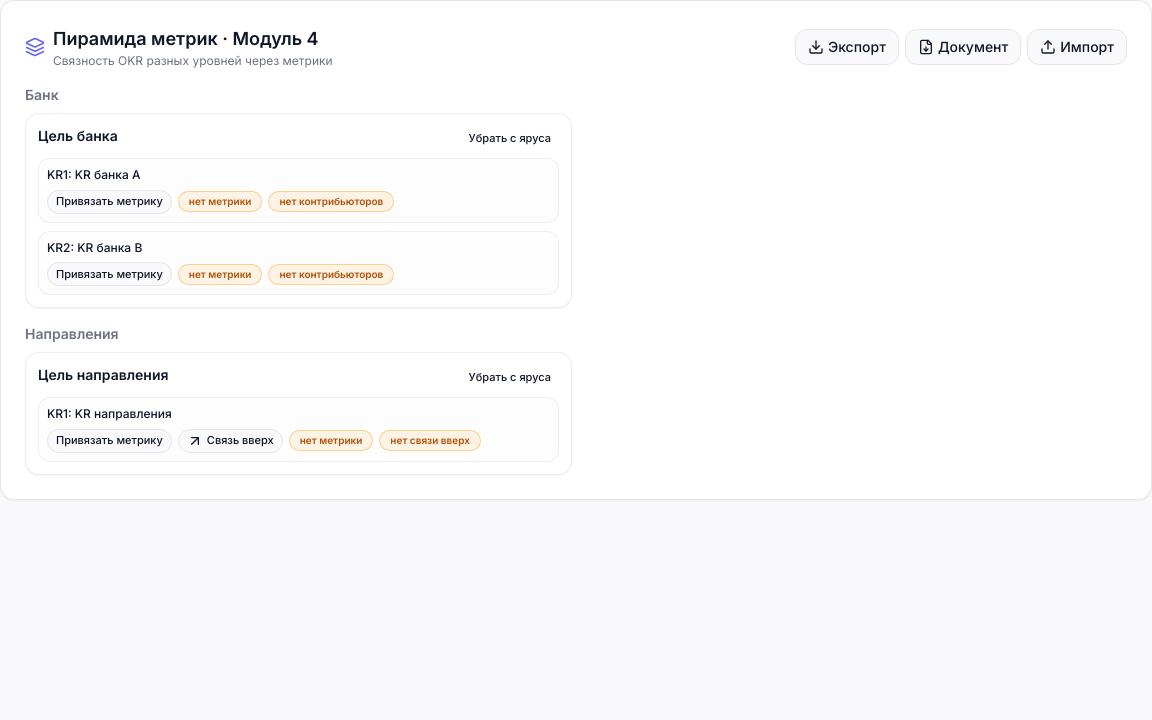
Test: MetricsPyramid › создаёт связь вверх между KR направления и KR банка (many-to-many)
What coordinates should you click on to do the following:
click the button "Связь вверх"
I would click on:
 (230, 440)
Its box is [178,428,283,452].
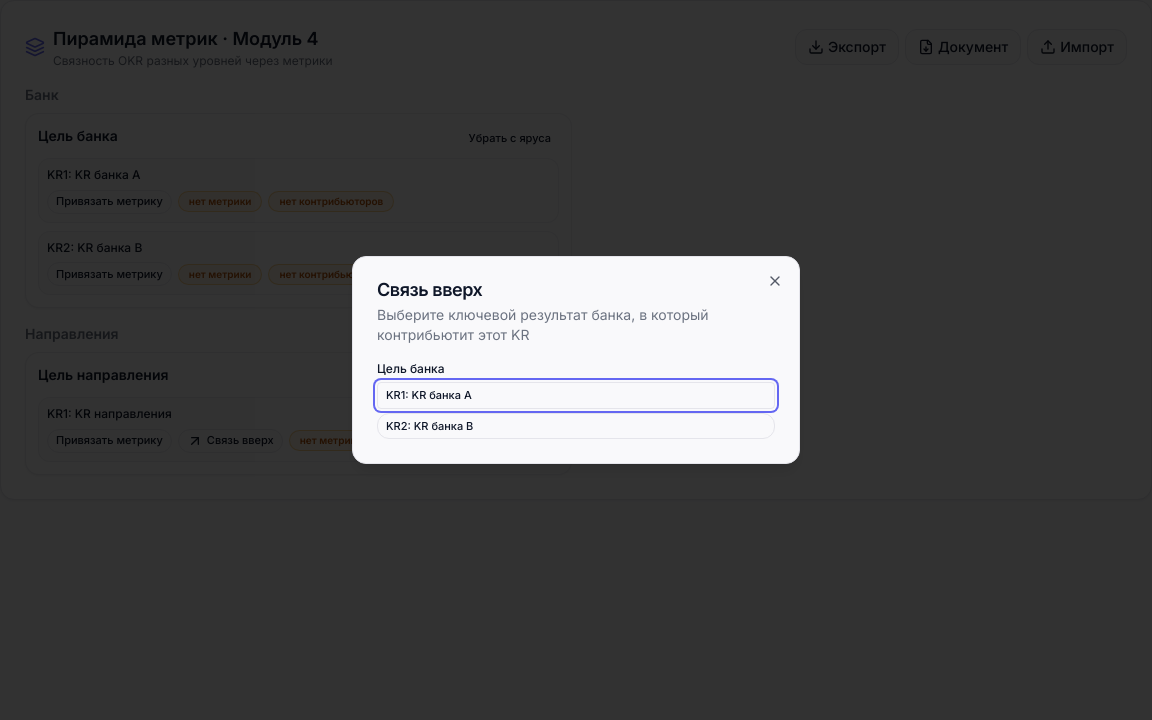
What coordinates should you click on to do the following:
click the button "KR1: KR банка A"
I would click on:
 (442, 395)
Its box is [377,382,775,408].
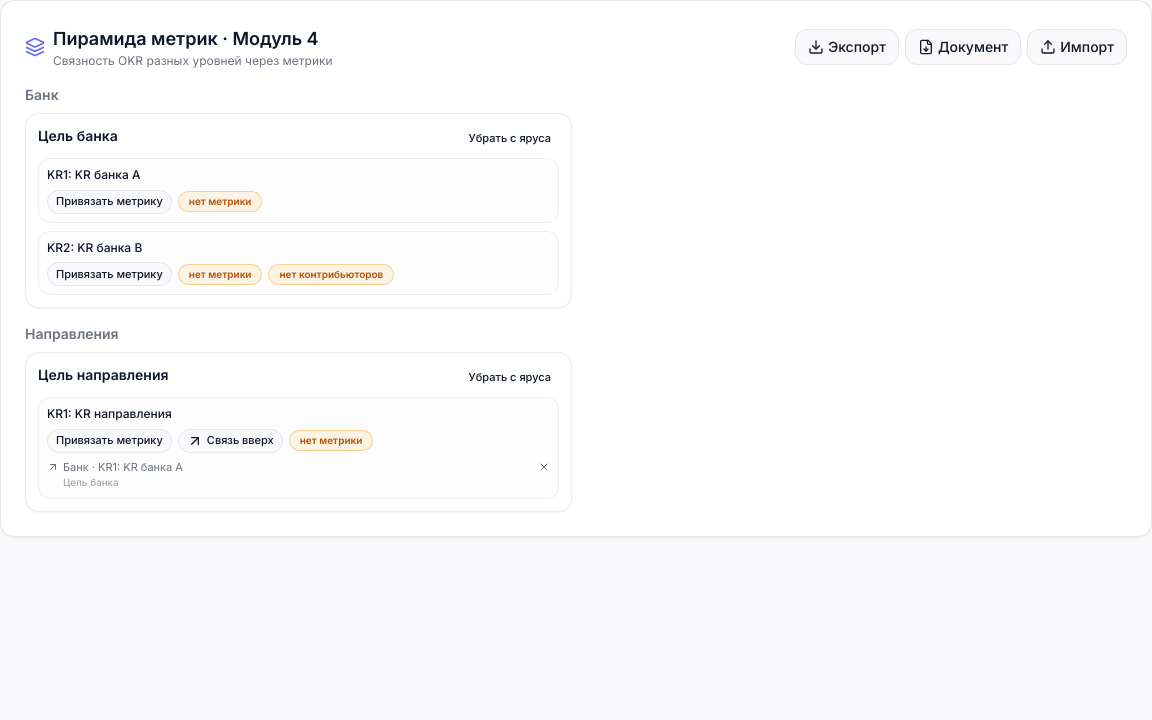
Expected: the number of list items with test id "contribution-link" is 1, [47,458,550,490]
What coordinates should you click on to do the following:
click the button "Связь вверх"
I would click on:
 (230, 440)
Its box is [178,428,283,452].
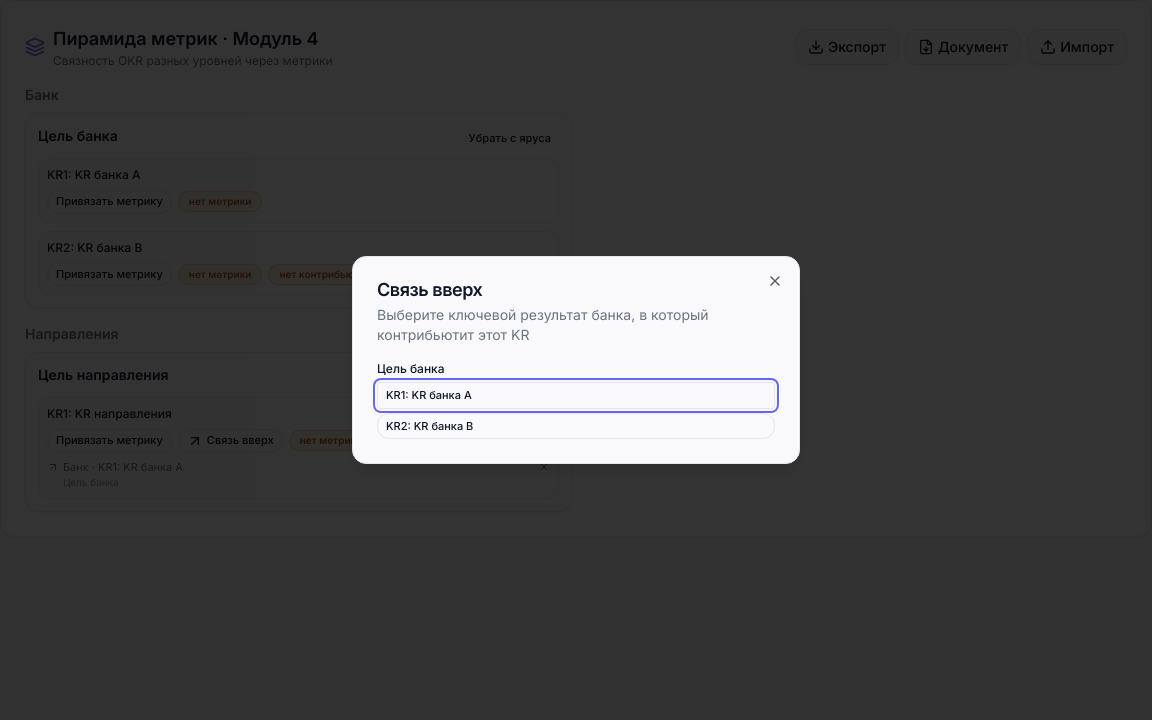
What coordinates should you click on to do the following:
click the button "KR2: KR банка B"
I would click on:
 (444, 426)
Its box is [377,412,775,439].
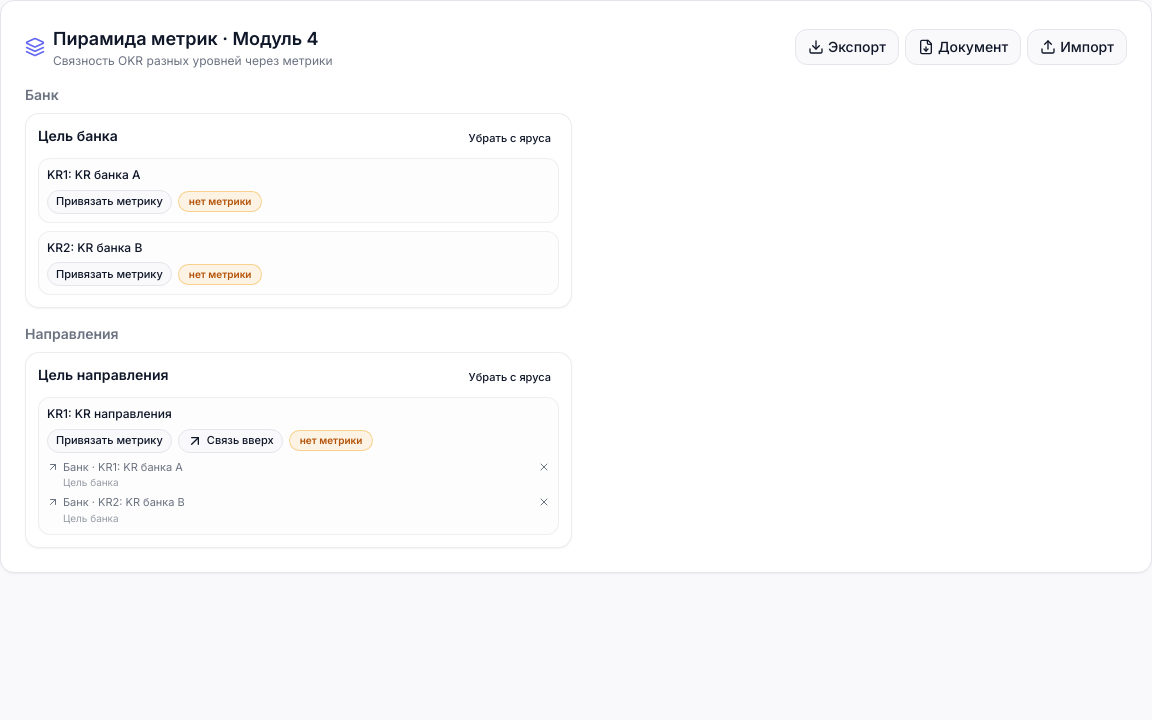
Expected: the list item with test id "contribution-link" shows "KR1: KR банка A", [47,458,550,490]
Expected: the number of list items with test id "contribution-link" is 2, [47,458,550,490]; [47,494,550,526]
Expected: the list item with test id "contribution-link" shows "KR2: KR банка B", [47,494,550,526]
